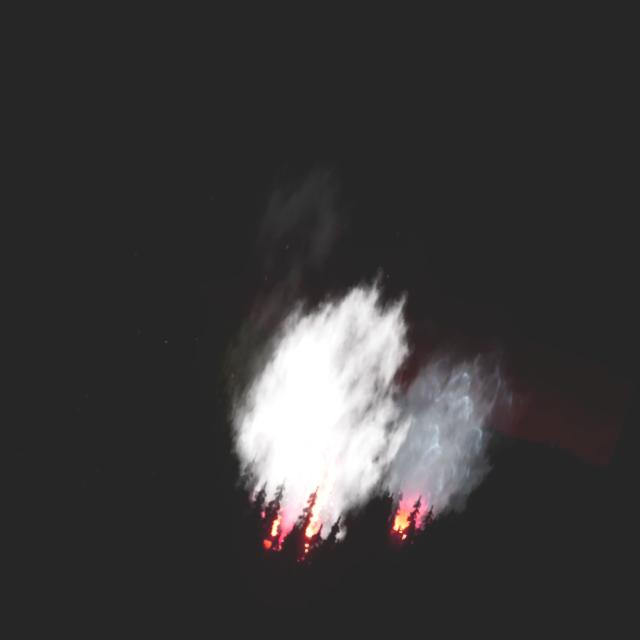fire: (252, 436, 358, 574), (386, 492, 432, 542)
smoke: (204, 254, 532, 571)
